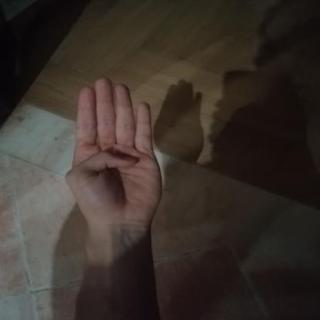KAAF: (57, 70, 170, 236)
